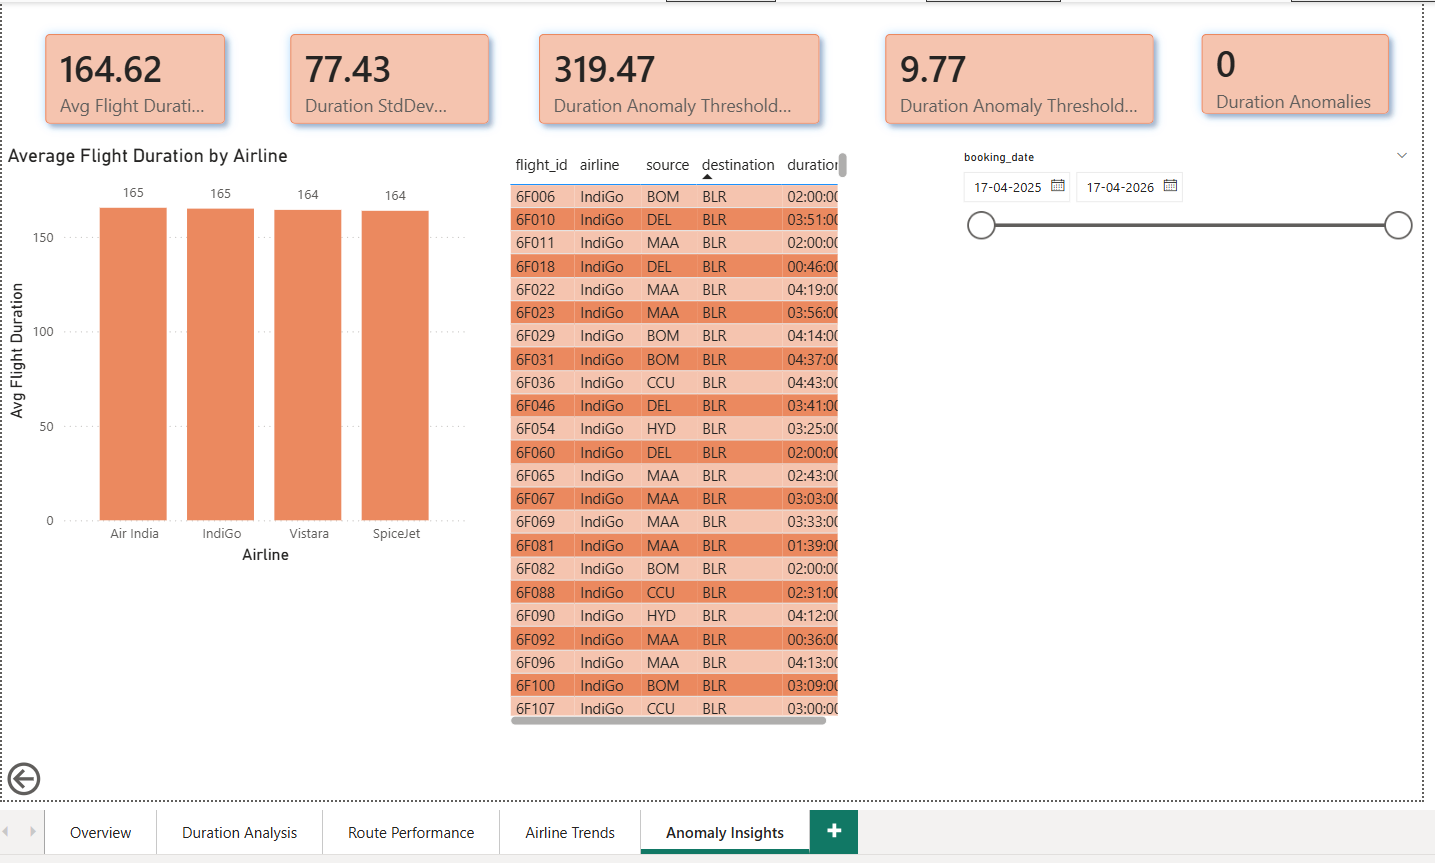

This screenshot's page, from the dashboard's own definition file:
{"tool":"powerbi","page":{"name":"Anomaly Insights","canvas":[1280,720],"ordinal":4},"visuals":[{"type":"cardVisual","fields":{"Data":["airlines_dw flights.Avg Flight Duration (min)"]},"box":[9.6,0,220.9,140],"z":0},{"type":"cardVisual","fields":{"Data":["airlines_dw flights.Duration StdDev (min)"]},"box":[230.5,0,237.4,140],"z":1},{"type":"cardVisual","fields":{"Data":["airlines_dw flights.Duration Anomaly Threshold High"]},"box":[455.6,0,311.5,140],"z":2},{"type":"cardVisual","fields":{"Data":["airlines_dw flights.Duration Anomaly Threshold Low"]},"box":[767.1,0,300.5,140],"z":3},{"type":"cardVisual","fields":{"Data":["airlines_dw flights.Duration Anomalies"]},"box":[1052.5,0,227.8,130.4],"z":4},{"type":"clusteredColumnChart","title":"Average Flight Duration by Airline","fields":{"Y":["airlines_dw flights.Avg Flight Duration (min)"],"Category":["airlines_dw flights.airline"]},"box":[0,129,424,382.8],"z":5},{"type":"tableEx","fields":{"Values":["airlines_dw flights.flight_id","airlines_dw flights.airline","airlines_dw flights.source","airlines_dw flights.destination","airlines_dw flights.duration"]},"box":[451.5,130.4,315.6,526.9],"z":6},{"type":"actionButton","box":[0,680.8,100.3,39.4],"z":7},{"type":"slicer","fields":{"Values":["airlines_dw bookings.booking_date"]},"box":[854.8,128.4,425.5,123.5],"z":9}]}

Visuals, with their boxes on the page's 1280x720 design canvas (x1, y1, x2, y2). These are canvas units, not pixel positions in the 1435x863 screenshot, which may show the page scaled, cropped or inside an application window:
cardVisual - airlines_dw flights.Avg Flight Duration (min): <box>10,0,230,140</box>
cardVisual - airlines_dw flights.Duration StdDev (min): <box>230,0,468,140</box>
cardVisual - airlines_dw flights.Duration Anomaly Threshold High: <box>456,0,767,140</box>
cardVisual - airlines_dw flights.Duration Anomaly Threshold Low: <box>767,0,1068,140</box>
cardVisual - airlines_dw flights.Duration Anomalies: <box>1052,0,1280,130</box>
"Average Flight Duration by Airline" clusteredColumnChart: <box>0,129,424,512</box>
tableEx - airlines_dw flights.flight_id x airlines_dw flights.airline: <box>452,130,767,657</box>
actionButton: <box>0,681,100,720</box>
slicer - airlines_dw bookings.booking_date: <box>855,128,1280,252</box>
